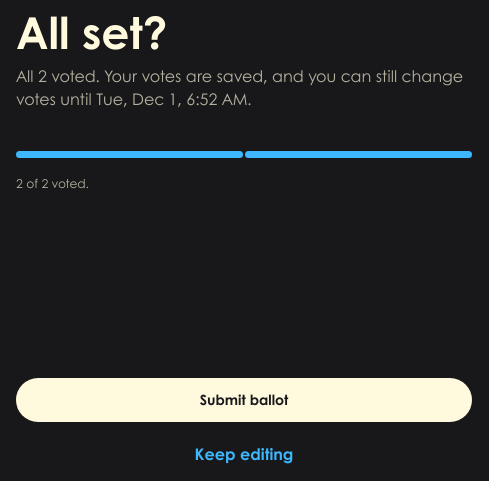
Scenario: SubmitBallotPage › second tap stores the submission and shows done, with no vote writes
This screenshot has width=489, height=481.
What coordinates should you click on to do the following:
click the button "Submit ballot"
I would click on:
 (244, 400)
Its box is [16, 378, 472, 422].
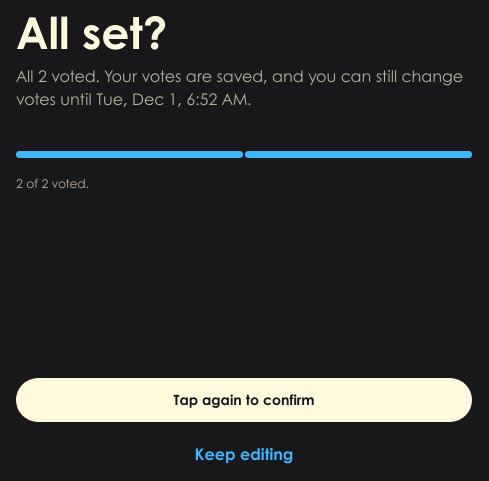
What coordinates should you click on to do the following:
click the button "Tap again to confirm"
I would click on:
 (244, 400)
Its box is [16, 378, 472, 422].
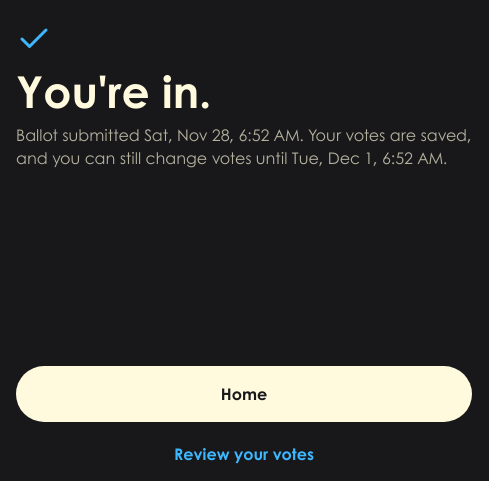
expect the message shows "you can still change votes until": met, box [16, 129, 472, 167]
expect the message shows "Ballot submitted": met, box [16, 129, 144, 144]
